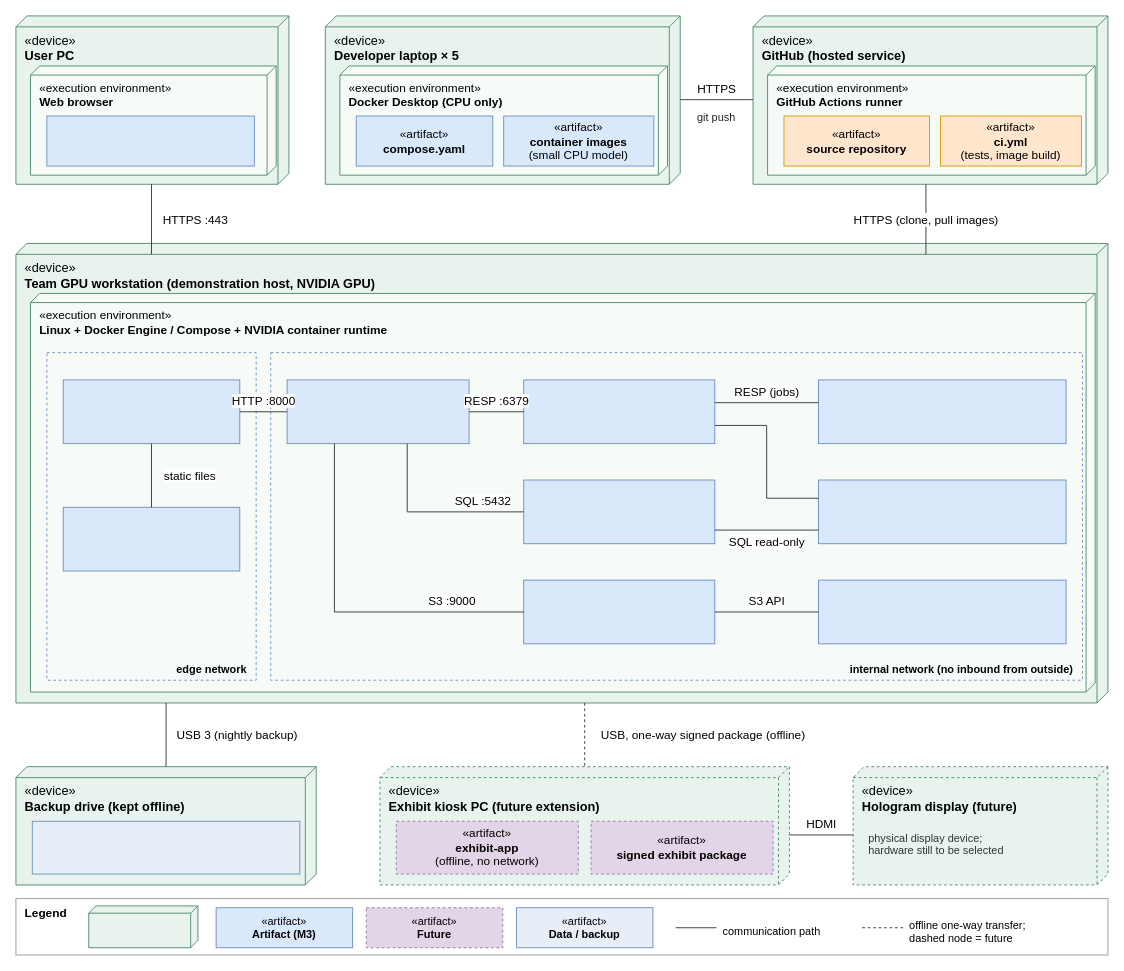
The diagram is 1124 pixels wide and 971 high, and some of its shapes have lost their labels. Here are the shapes that lost their labels. From the top down, the centre of each, then its label:
At point 150,140: "«artifact» web-app bundle (React SPA, served by caddy)".
At point 151,411: "«artifact» caddy TLS :443, rate limits".
At point 377,411: "«artifact» core-api × 2 instances FastAPI + Job Reaper".
At point 619,411: "«artifact» redis:7 Streams, AOF on".
At point 942,411: "«artifact» analysis-worker × 2 instances GPU, restart: always".
At point 619,511: "«artifact» postgres:16 + pgvector records, audit, vectors".
At point 942,511: "«artifact» knowledge-worker local LLM, no internet".
At point 151,538: "«artifact» web build static SPA files".
At point 619,611: "«artifact» minio object lock on originals".
At point 942,611: "«artifact» evaluation-runner on demand".
At point 165,847: "«artifact» nightly pg_dump + MinIO mirror daily audit-chain head".
At point 143,926: "«device» Node".
